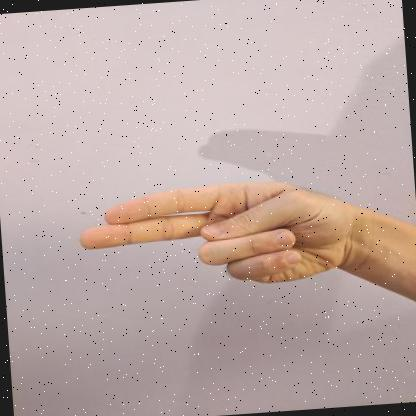H: (79, 182, 346, 283)
